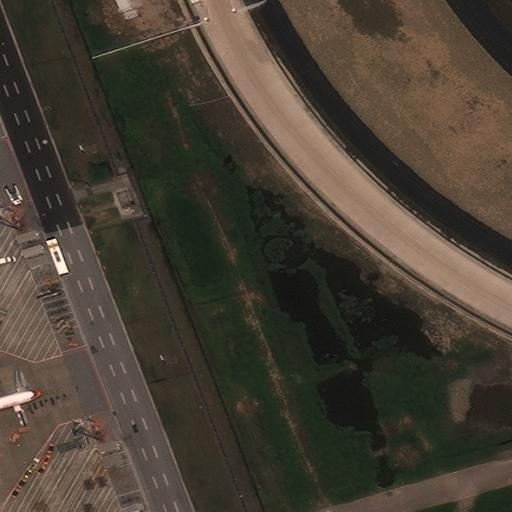Medium Civil Transport: (0, 382, 40, 436)
